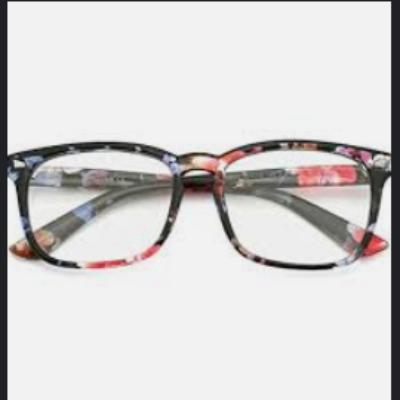glasses: (8, 132, 391, 288)
